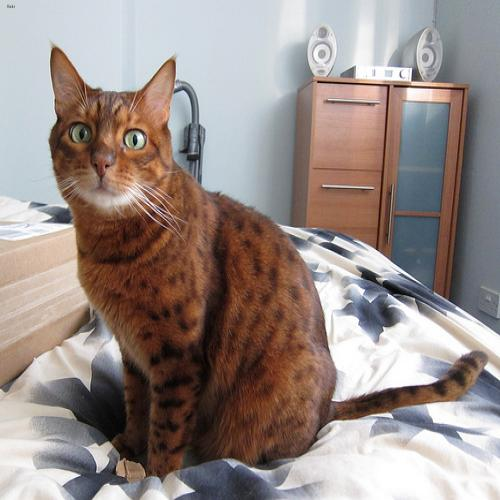bengal: (37, 38, 189, 223)
